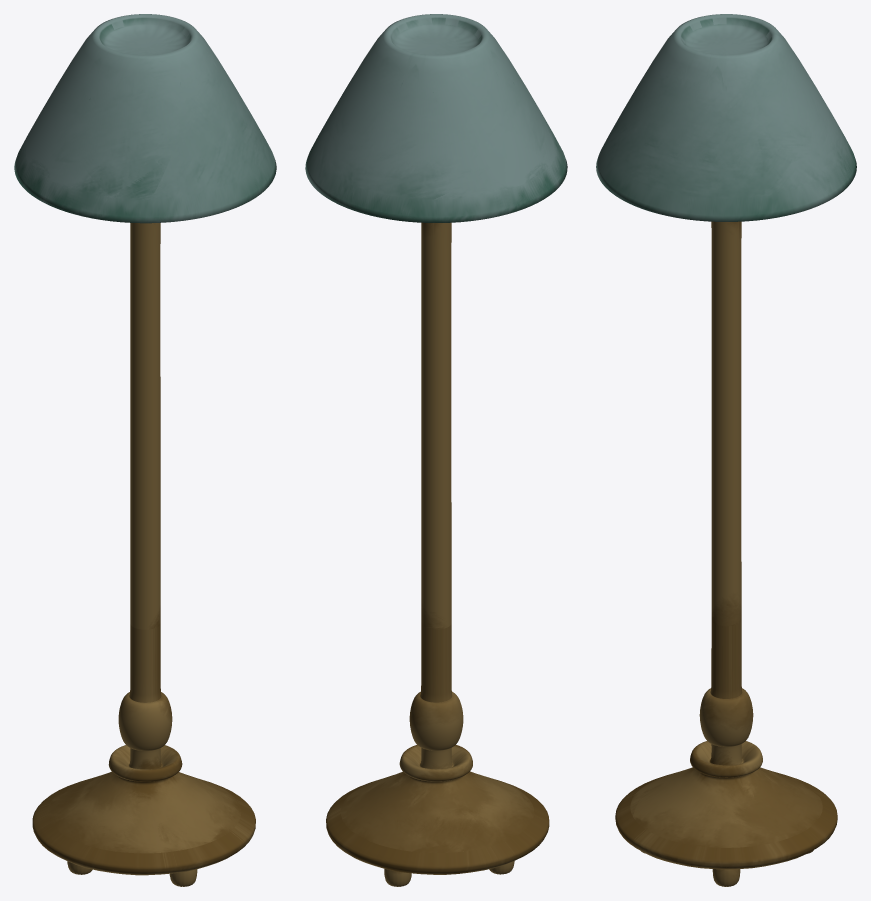
File: lamp.fbx
3 views of the same model, side by side, from view 1: azimuth 30°, elevation 25°; view 2: azimuth 150°, elevation 25°; view 3: azimuth 270°, elevation 25° (orthographic).
Parts seen in each view (by area): view 1: LampShade, Lamp; view 2: LampShade, Lamp; view 3: LampShade, Lamp.
Part boxes in pixels (box(x1,y1,x2,y2)): LampShade: box(14, 14, 276, 223); Lamp: box(32, 223, 255, 886); LampShade: box(305, 14, 567, 222); Lamp: box(326, 222, 549, 886); LampShade: box(596, 14, 856, 221); Lamp: box(615, 221, 837, 886).
Size of the model in its own units: 5.46 by 18.87 by 5.46.
Materials: 2 (2 with a texture image).
